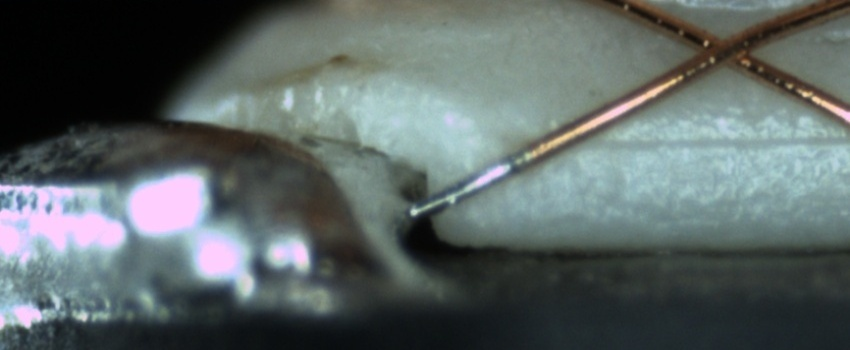CL: (679, 16, 777, 79)
DL: (545, 109, 850, 173)
TS: (408, 150, 534, 220)
